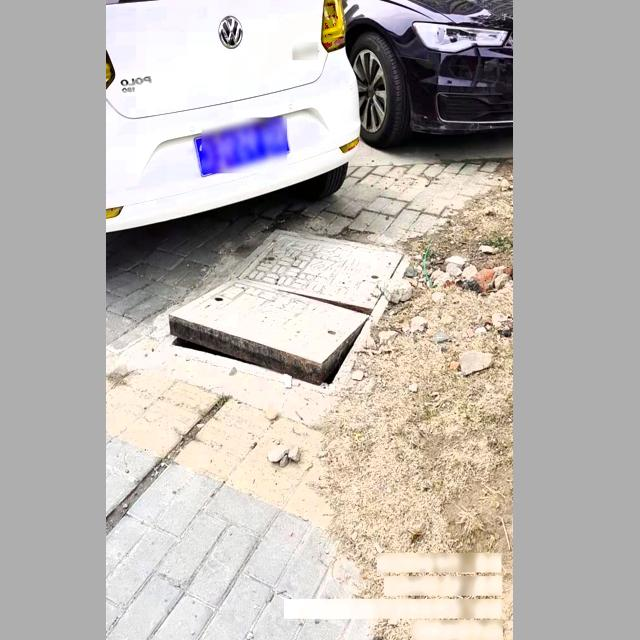uncovered: (154, 245, 396, 416)
